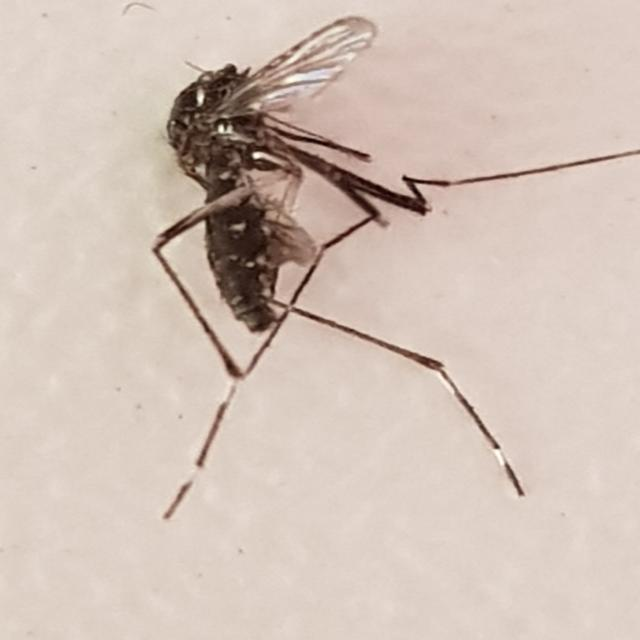albopictus: (103, 7, 571, 550)
